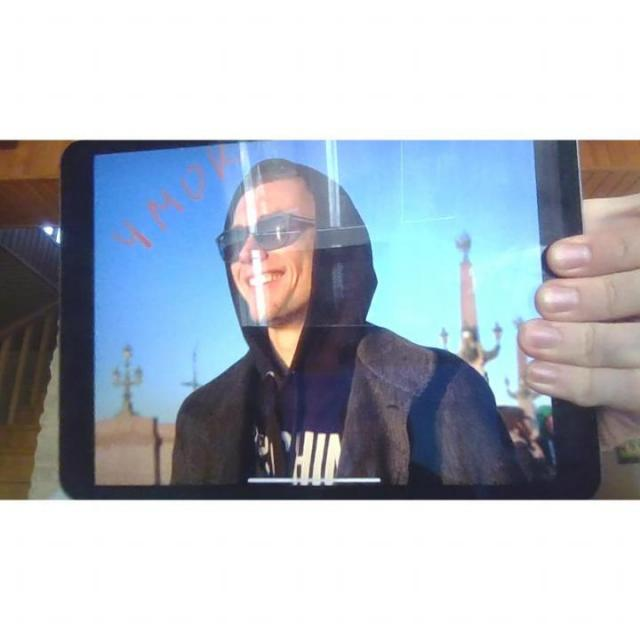device: (58, 140, 596, 500)
